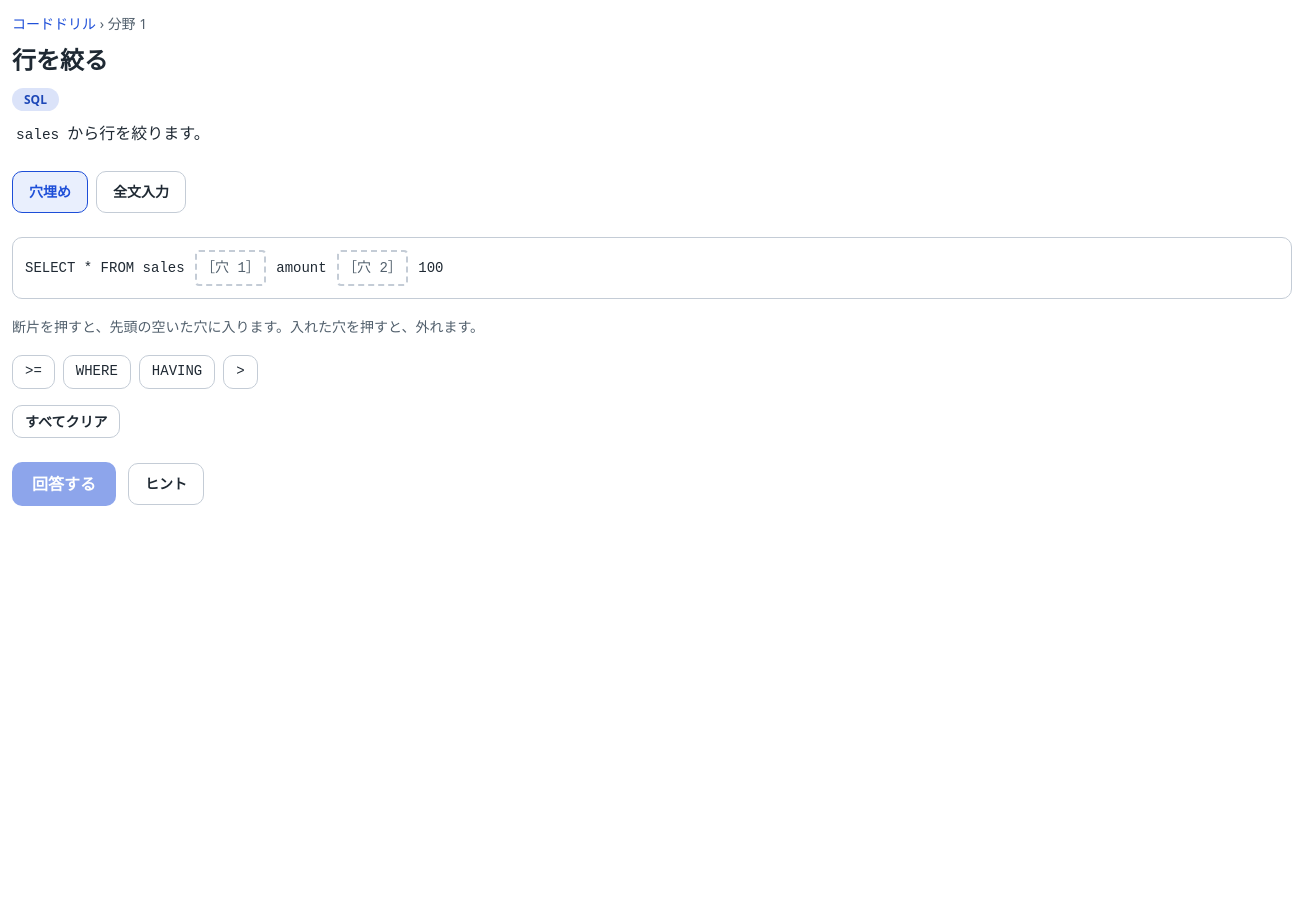
Test: CodeDrillPlayer(穴埋め) › ヒント_押すたびに 1 か所ずつ正解が入り_使った回数を出す
What coordinates should you click on to do the following:
click the button "ヒント"
I would click on:
 (166, 484)
Its box is [128,464,204,505].
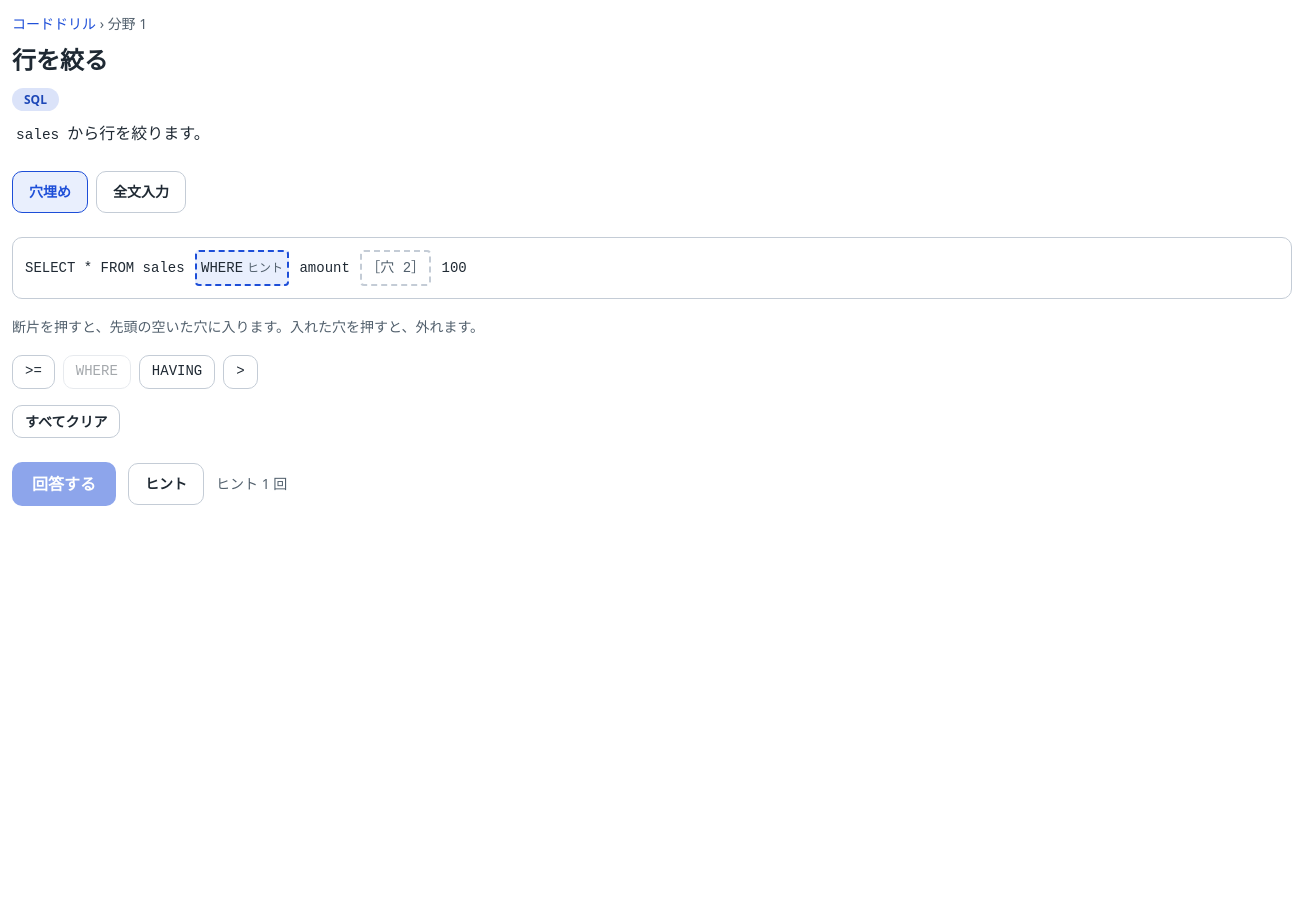
Expected: the button with aria-label "穴 1: WHERE(ヒント)" is shown, [195,250,289,286]
What coordinates should you click on to do the following:
click the button "ヒント"
I would click on:
 (166, 484)
Its box is [128,464,204,505].
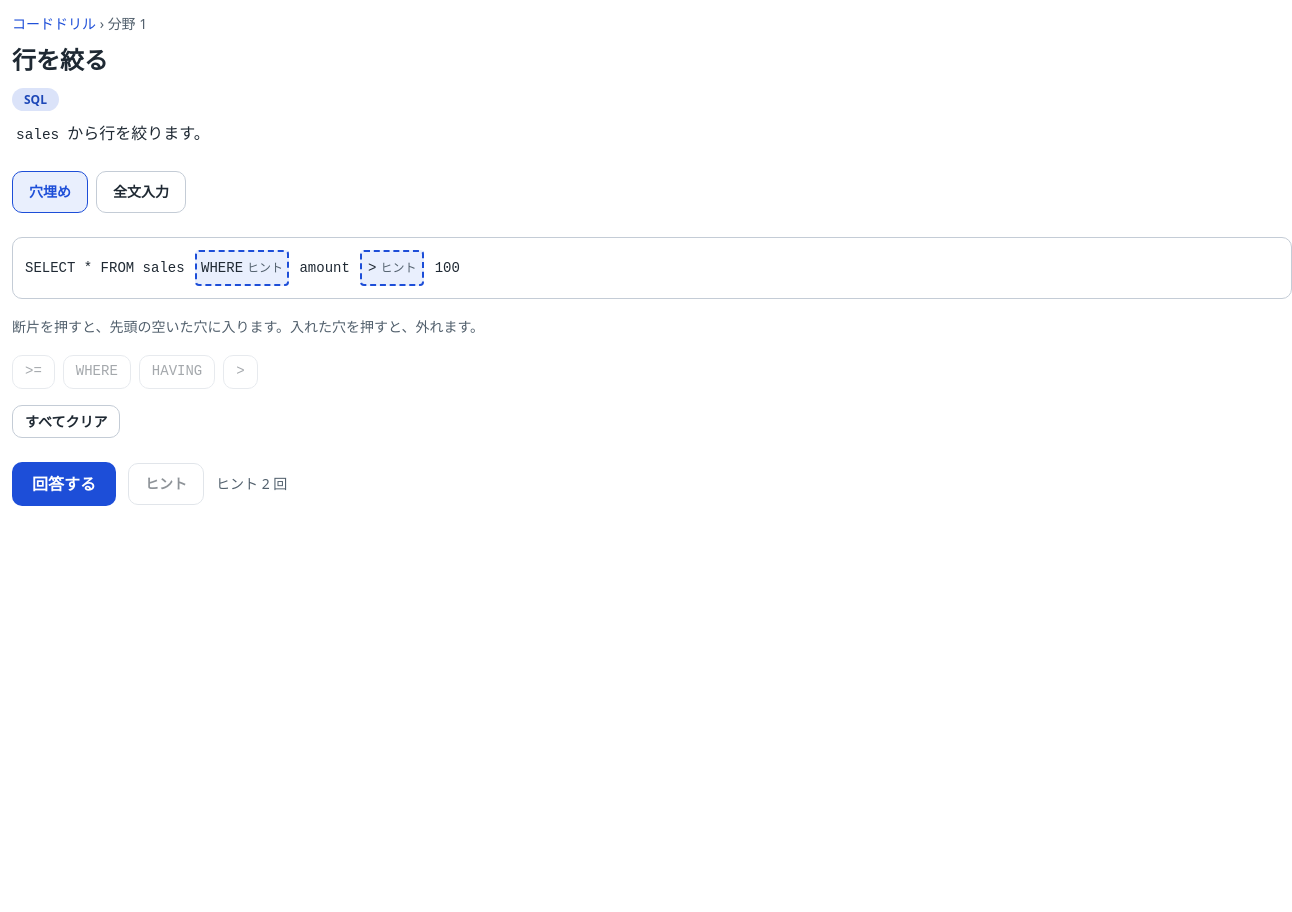
Expected: the button "ヒント" is disabled, [128,464,204,505]
What coordinates should you click on to do the following:
click the button "回答する"
I would click on:
 (64, 484)
Its box is [12,462,116,506].
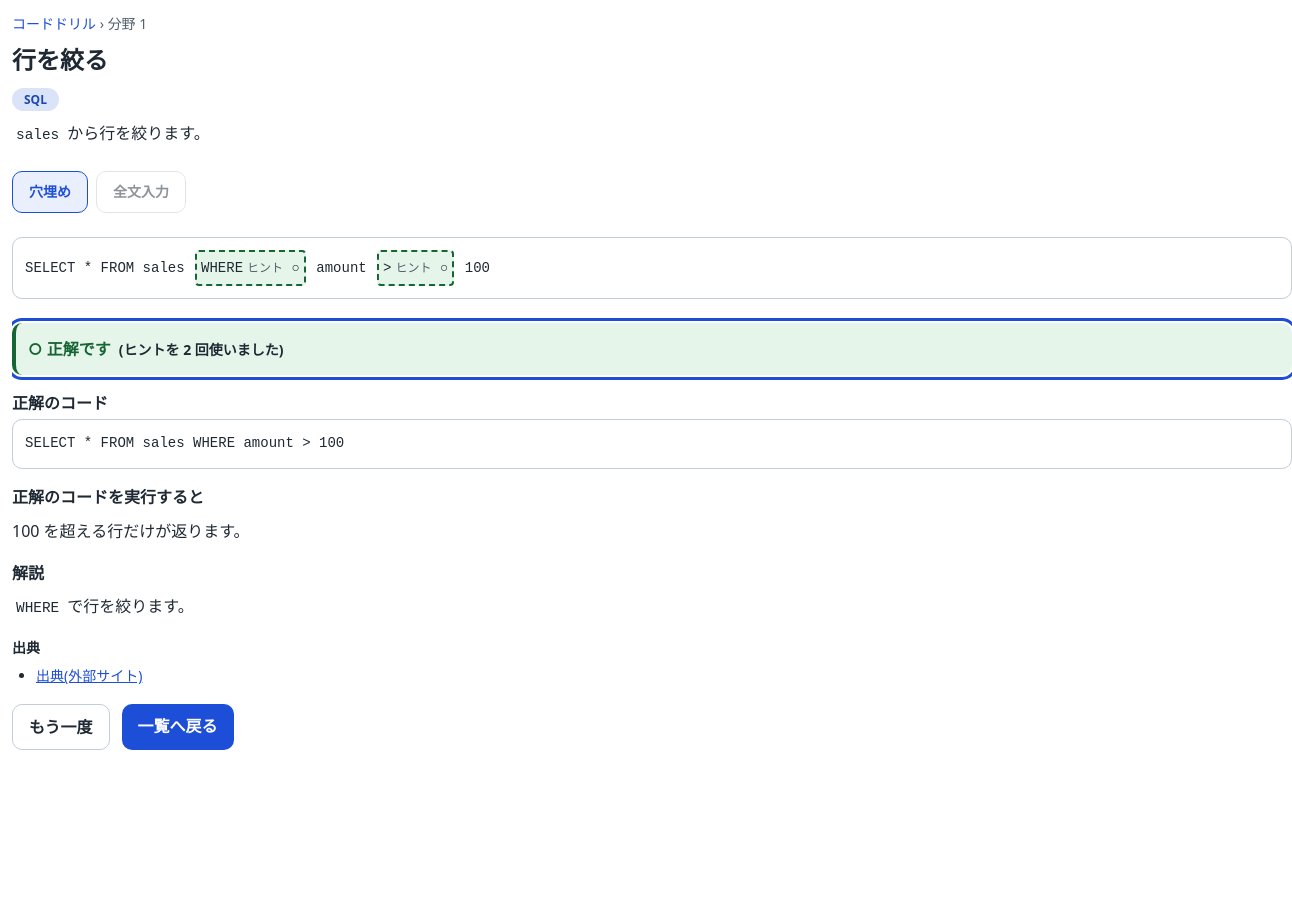
Expected: the message shows "○ 正解です", [28,338,111,360]
Expected: the message shows "ヒントを 2 回使いました", [12,323,1291,375]
